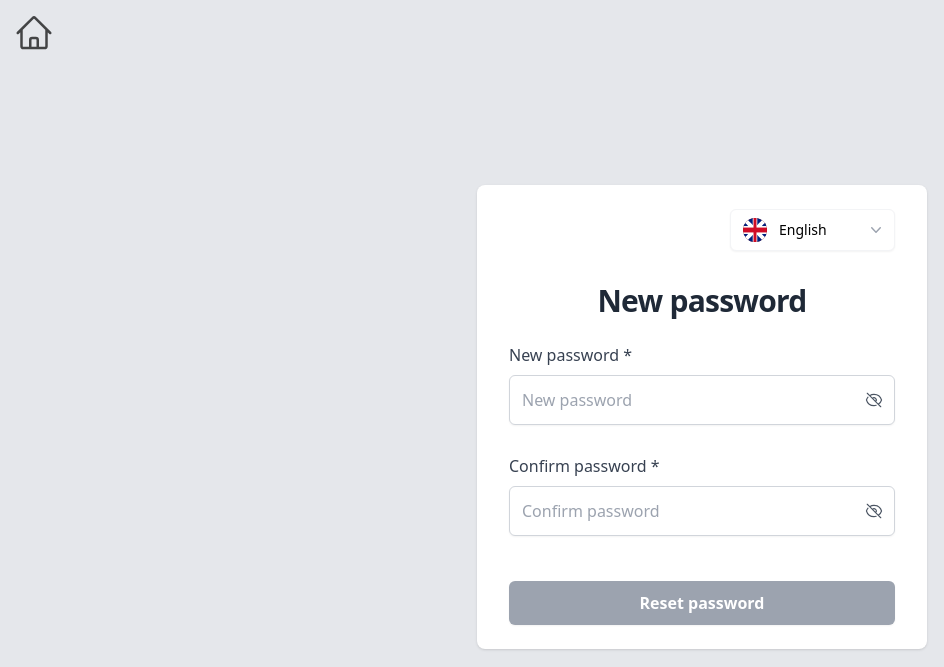
New password page › Should see validation messages when focus and blur inputs. Also validation messages should translate into Georgian
Step 1. Focus the password field with test id "password-input" → (702, 400), box [509,375,895,425]
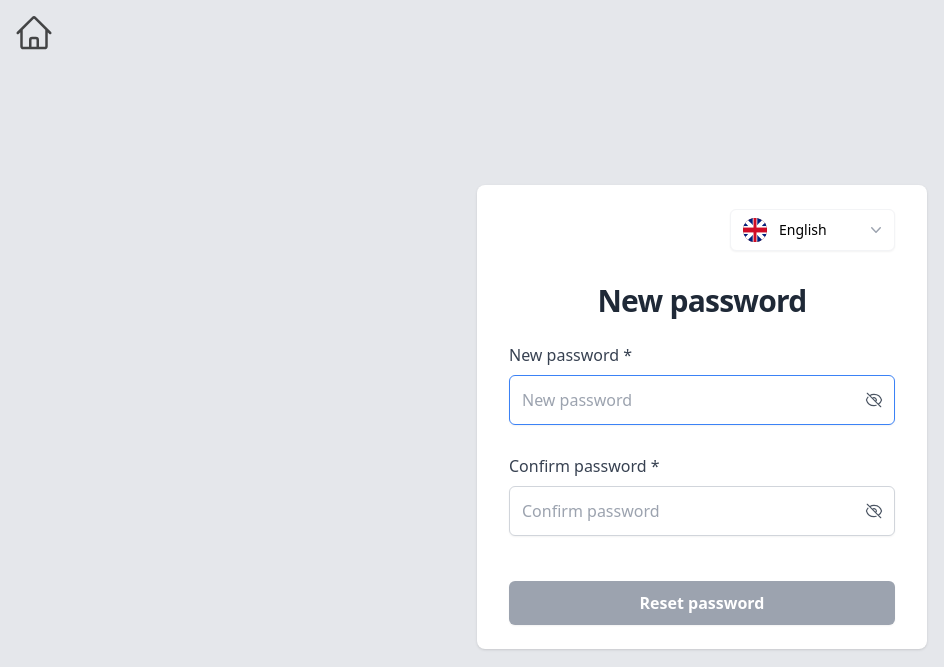
Step 2. Leave the password field with test id "password-input", box [509,375,895,425]
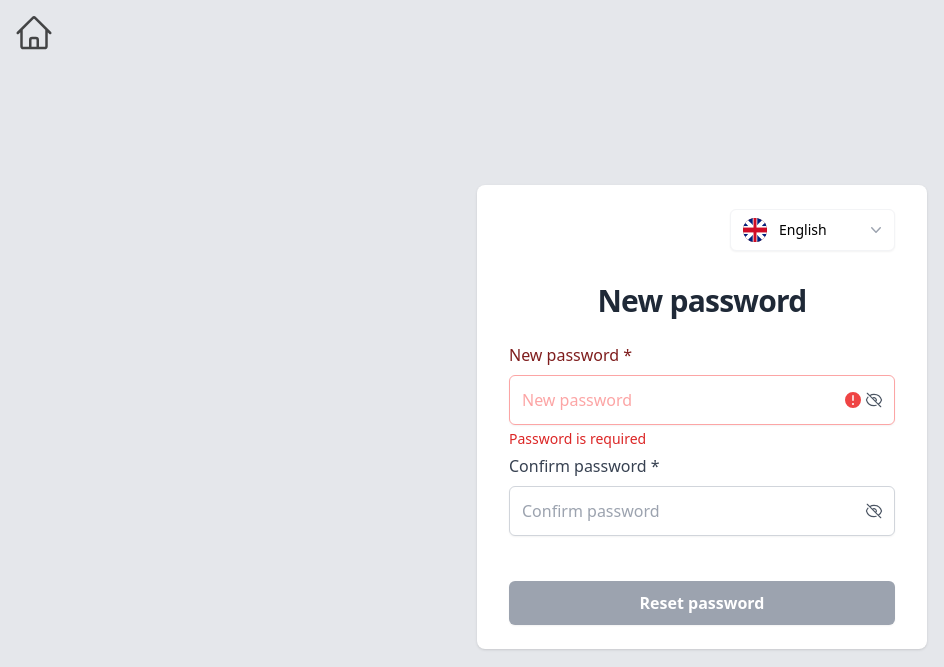
Check: the text with test id "password-validation" reads "Password is required", box [509,429,646,448]
Step 3. Focus the password field with test id "passwordConfirmation-input" → (702, 511), box [509,486,895,536]
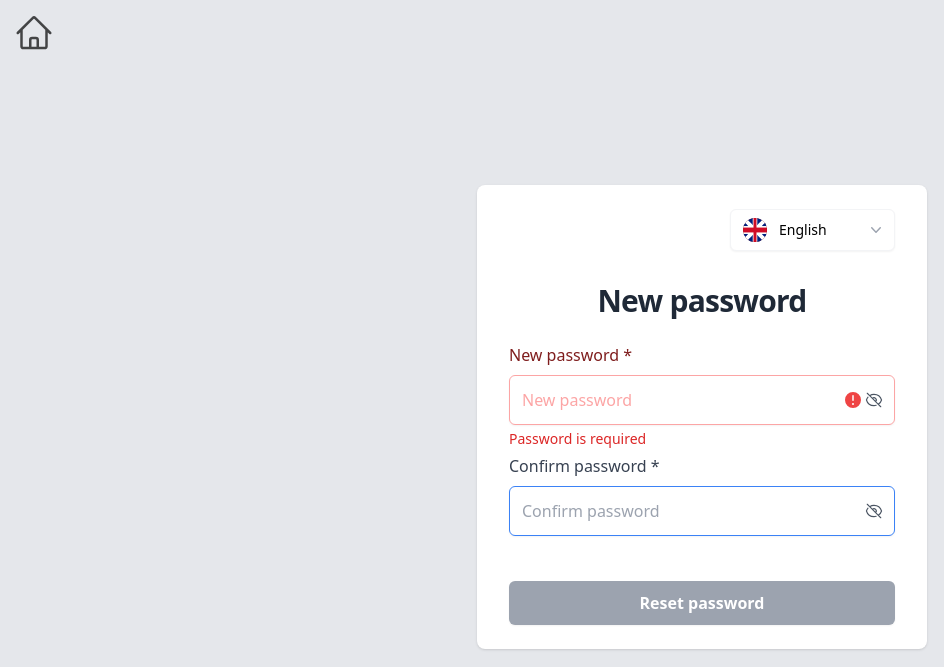
Step 4. Leave the password field with test id "passwordConfirmation-input", box [509,486,895,536]
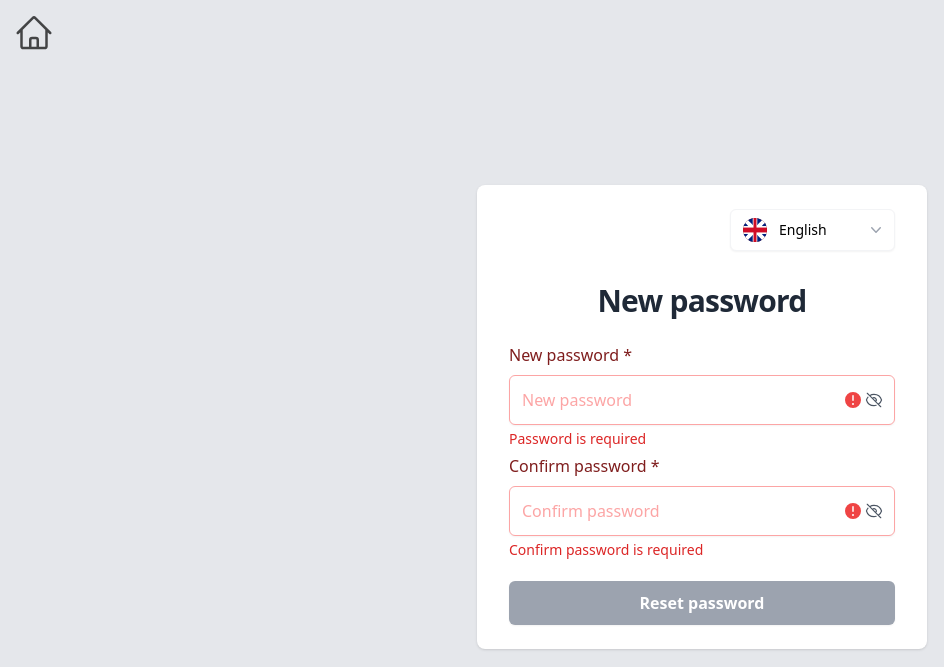
Check: the text with test id "passwordConfirmation-validation" reads "Confirm password is required", box [509,540,703,559]
Step 5. Click the button with test id "language-selector" → (813, 230), box [730,209,895,251]
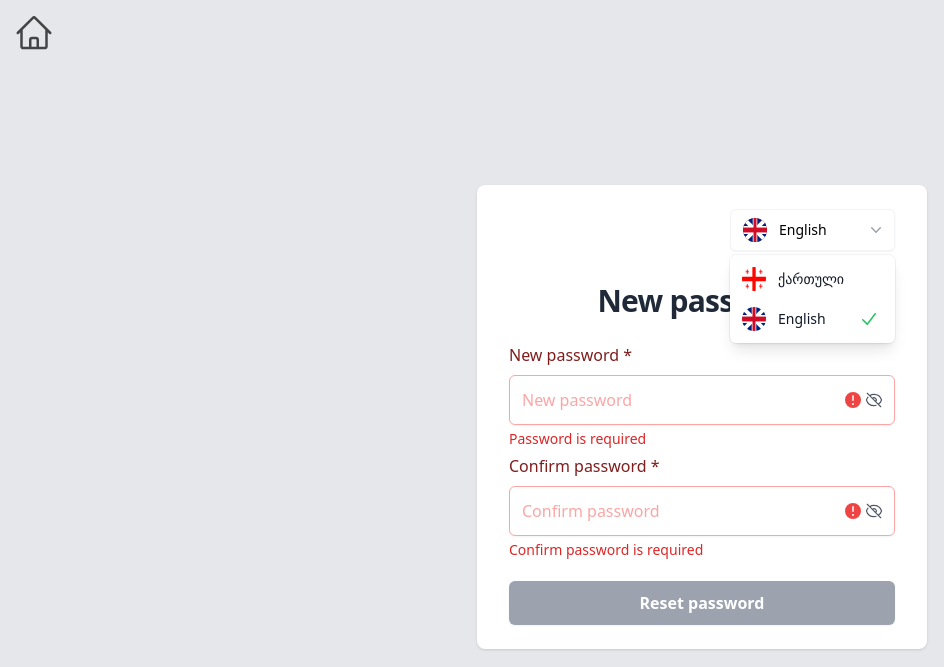
Step 6. Click the option with test id "ka" → (793, 279), box [742,267,844,291]
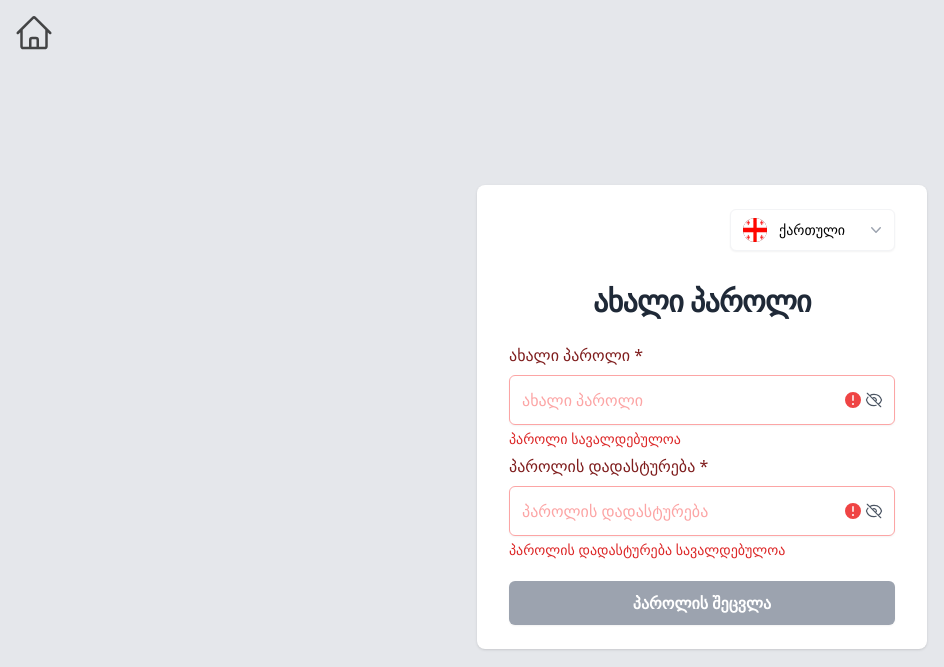
Check: the text with test id "password-validation" reads "პაროლი სავალდებულოა", box [509,429,681,448]
Check: the text with test id "passwordConfirmation-validation" reads "პაროლის დადასტურება სავალდებულოა", box [509,540,785,559]
